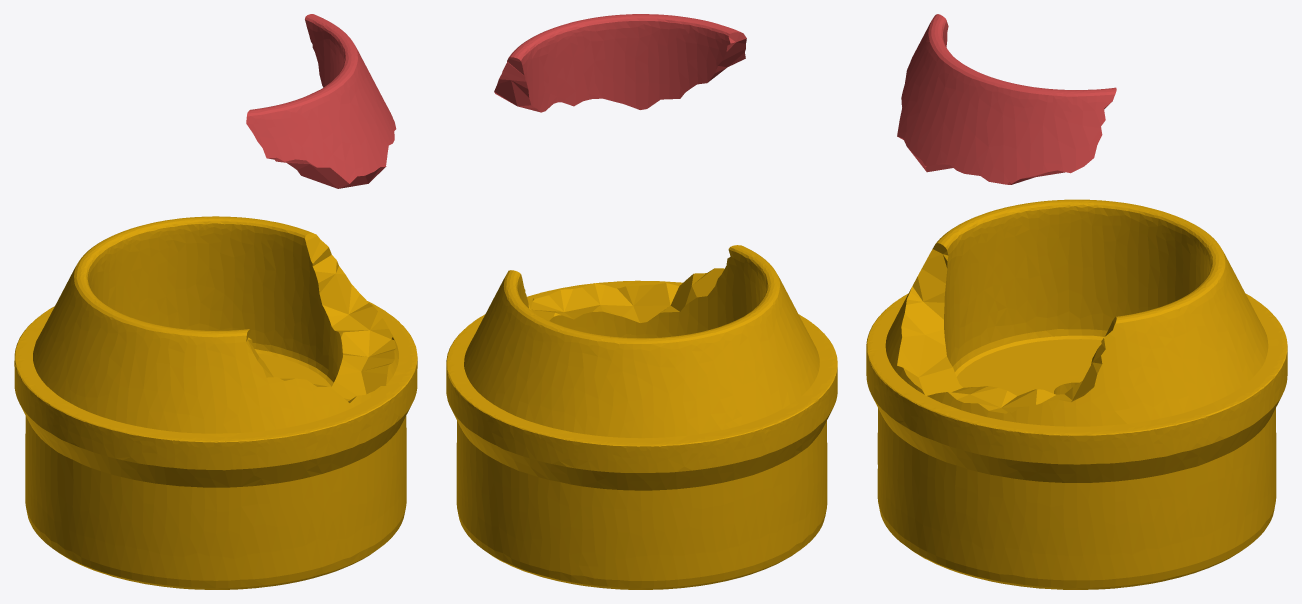
Rendered from fractured_74_2pcs_transformed.glb.
The picture shows the model from 3 angles, left to right: view 1: azimuth 30°, elevation 25°; view 2: azimuth 150°, elevation 25°; view 3: azimuth 270°, elevation 25°; orthographic projection. The views are drawn at different scales.
Visible parts, largest first — view 1: piece_0.obj, piece_1.obj; view 2: piece_0.obj, piece_1.obj; view 3: piece_0.obj, piece_1.obj.
Boxes of the visible parts, left/top/right/bottom form: piece_0.obj: left=14, top=216, right=417, bottom=589; piece_1.obj: left=246, top=14, right=396, bottom=188; piece_0.obj: left=446, top=245, right=837, bottom=589; piece_1.obj: left=494, top=14, right=746, bottom=112; piece_0.obj: left=866, top=199, right=1287, bottom=589; piece_1.obj: left=897, top=14, right=1116, bottom=184.
Bounding box in the file's own units: 1 × 1.26 × 1.
